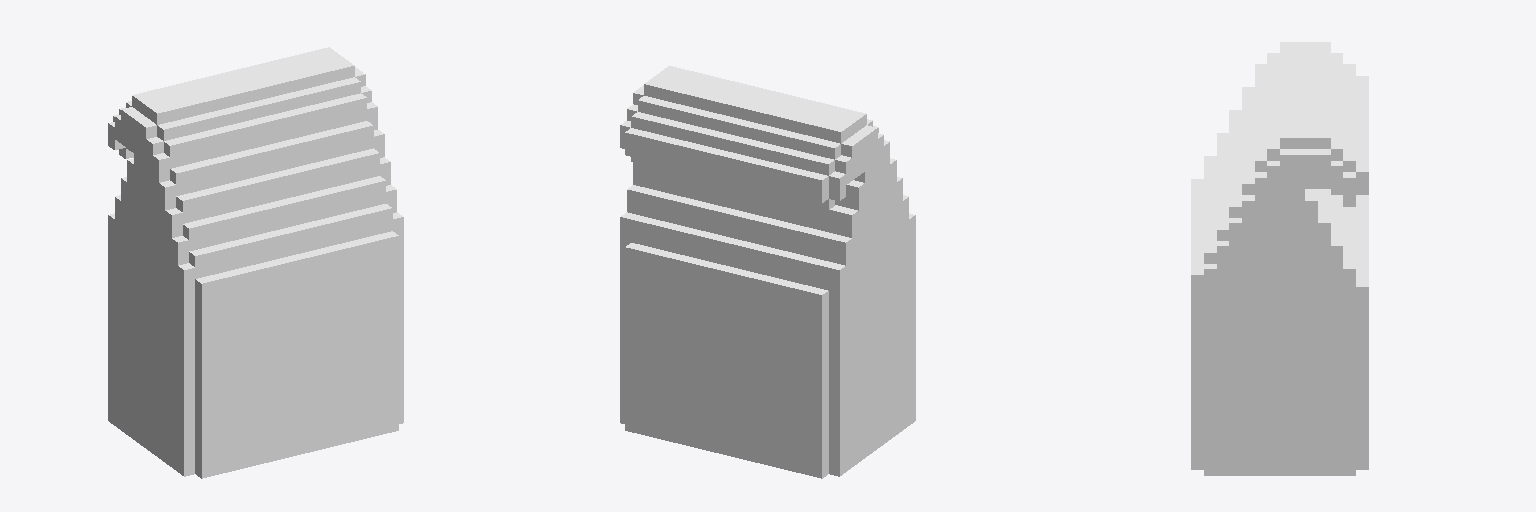
File: catFood.obj
3 views of the same model, side by side, from view 1: azimuth 30°, elevation 25°; view 2: azimuth 150°, elevation 25°; view 3: azimuth 270°, elevation 25° (orthographic).
Parts seen in each view (by area): view 1: object 1; view 2: object 1; view 3: object 1.
Part boxes in pixels (left/top/right/bottom): object 1: left=108, top=47, right=403, bottom=478; object 1: left=620, top=66, right=915, bottom=478; object 1: left=1191, top=42, right=1368, bottom=475.
Size of the model in its own units: 2 by 2.9 by 1.4.